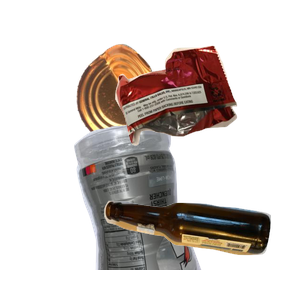glass: (101, 198, 300, 300)
metal: (74, 41, 229, 181)
plastic: (71, 120, 265, 300)
trash: (113, 43, 300, 181)
